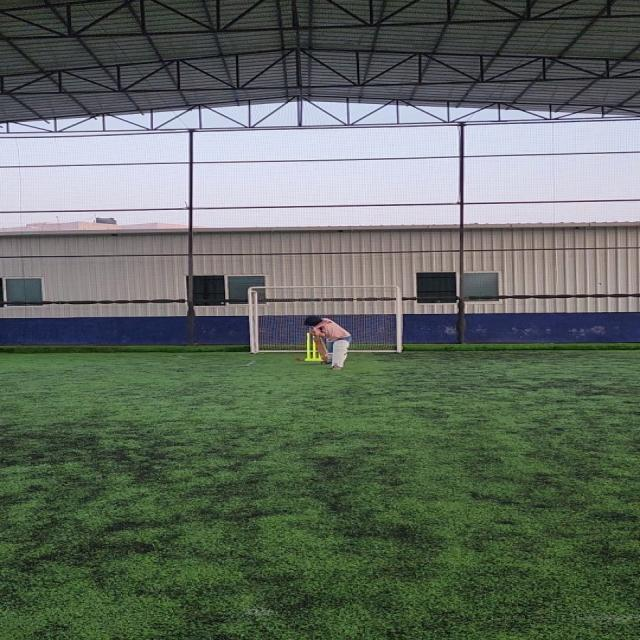ball: (292, 357, 301, 361)
stump: (304, 332, 318, 361)
